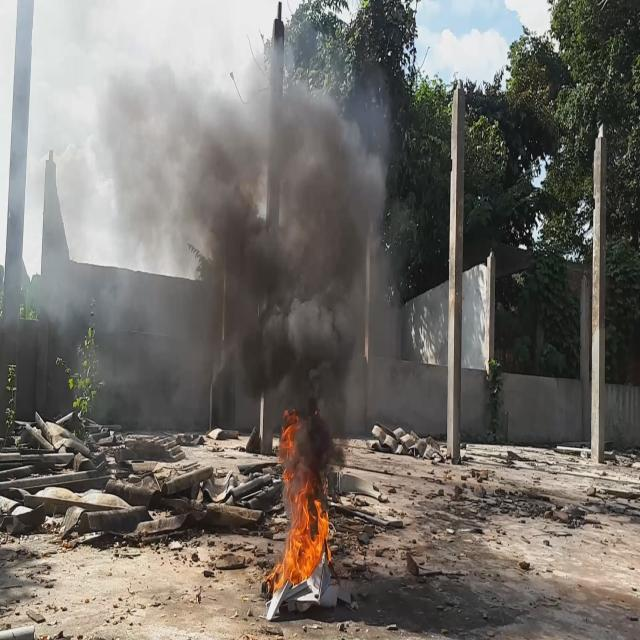Fire: (260, 404, 338, 596)
Smoke: (92, 64, 390, 490)
